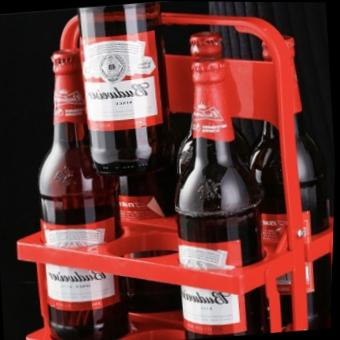glass: (169, 32, 280, 267)
plastic: (17, 224, 126, 339)
